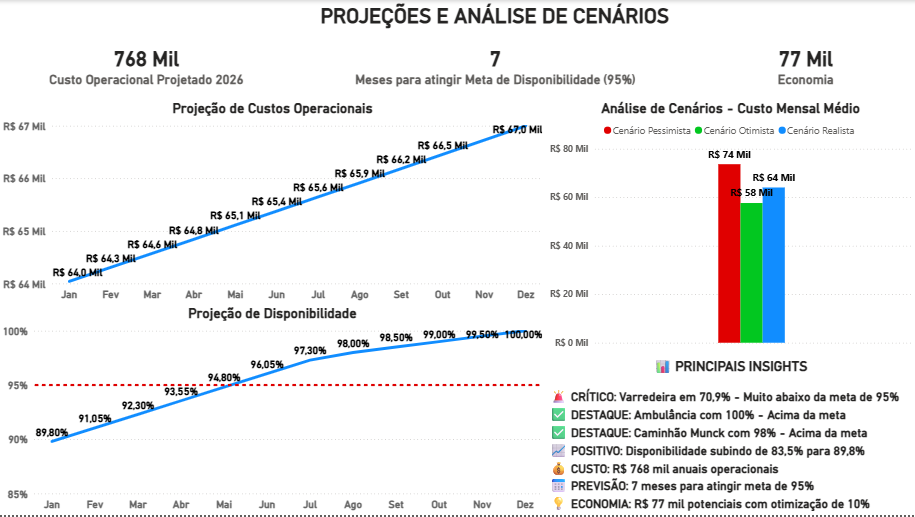

The dashboard page shown, as its layout file describes it:
{"tool":"powerbi","page":{"name":"Projeções e Cenários","canvas":[1280,720],"ordinal":3},"visuals":[{"type":"textbox","box":[444.4,0,498.9,46.1],"z":0},{"type":"cardVisual","fields":{"Data":["_Medidas.Projecao_Custo_2027"]},"box":[0,46.5,412.8,93.1],"z":1000},{"type":"cardVisual","fields":{"Data":["_Medidas.Meses_Para_Meta"]},"box":[412.8,46.5,562.9,93.1],"z":2000},{"type":"cardVisual","fields":{"Data":["_Medidas.Economia"]},"box":[975.6,46.5,304.7,93.1],"z":3000},{"type":"areaChart","title":"Projeção de Disponibilidade","fields":{"Y":["Sum(Projecao_2026.Disponibilidade)"],"Category":["Projecao_2026.Mês"]},"box":[0,426.2,764.4,293.4],"z":4000},{"type":"areaChart","title":"Projeção de Custos Operacionais","fields":{"Y":["Sum(Projecao_2026.Custo)"],"Category":["Projecao_2026.Mês"]},"box":[0,139.7,764.4,286.5],"z":5000},{"type":"clusteredColumnChart","title":"Análise de Cenários - Custo Mensal Médio","fields":{"Y":["_Medidas.Cenario_Pessimista","_Medidas.Cenario_Otimista","_Medidas.Cenario_Realista"]},"box":[764.4,139.7,515.6,353.5],"z":6000},{"type":"textbox","box":[764.4,493.3,515.6,227.8],"z":7000}]}

Visuals, with their boxes in screenshot pixels (x1, y1, x2, y2), scaled from the page's 1280x720 canvas onto the 915x517 screenshot:
textbox: rect(318, 0, 674, 33)
cardVisual - _Medidas.Projecao_Custo_2027: rect(0, 33, 295, 100)
cardVisual - _Medidas.Meses_Para_Meta: rect(295, 33, 697, 100)
cardVisual - _Medidas.Economia: rect(697, 33, 914, 100)
"Projeção de Disponibilidade" areaChart: rect(0, 306, 546, 516)
"Projeção de Custos Operacionais" areaChart: rect(0, 100, 546, 306)
"Análise de Cenários - Custo Mensal Médio" clusteredColumnChart: rect(546, 100, 914, 354)
textbox: rect(546, 354, 914, 516)
